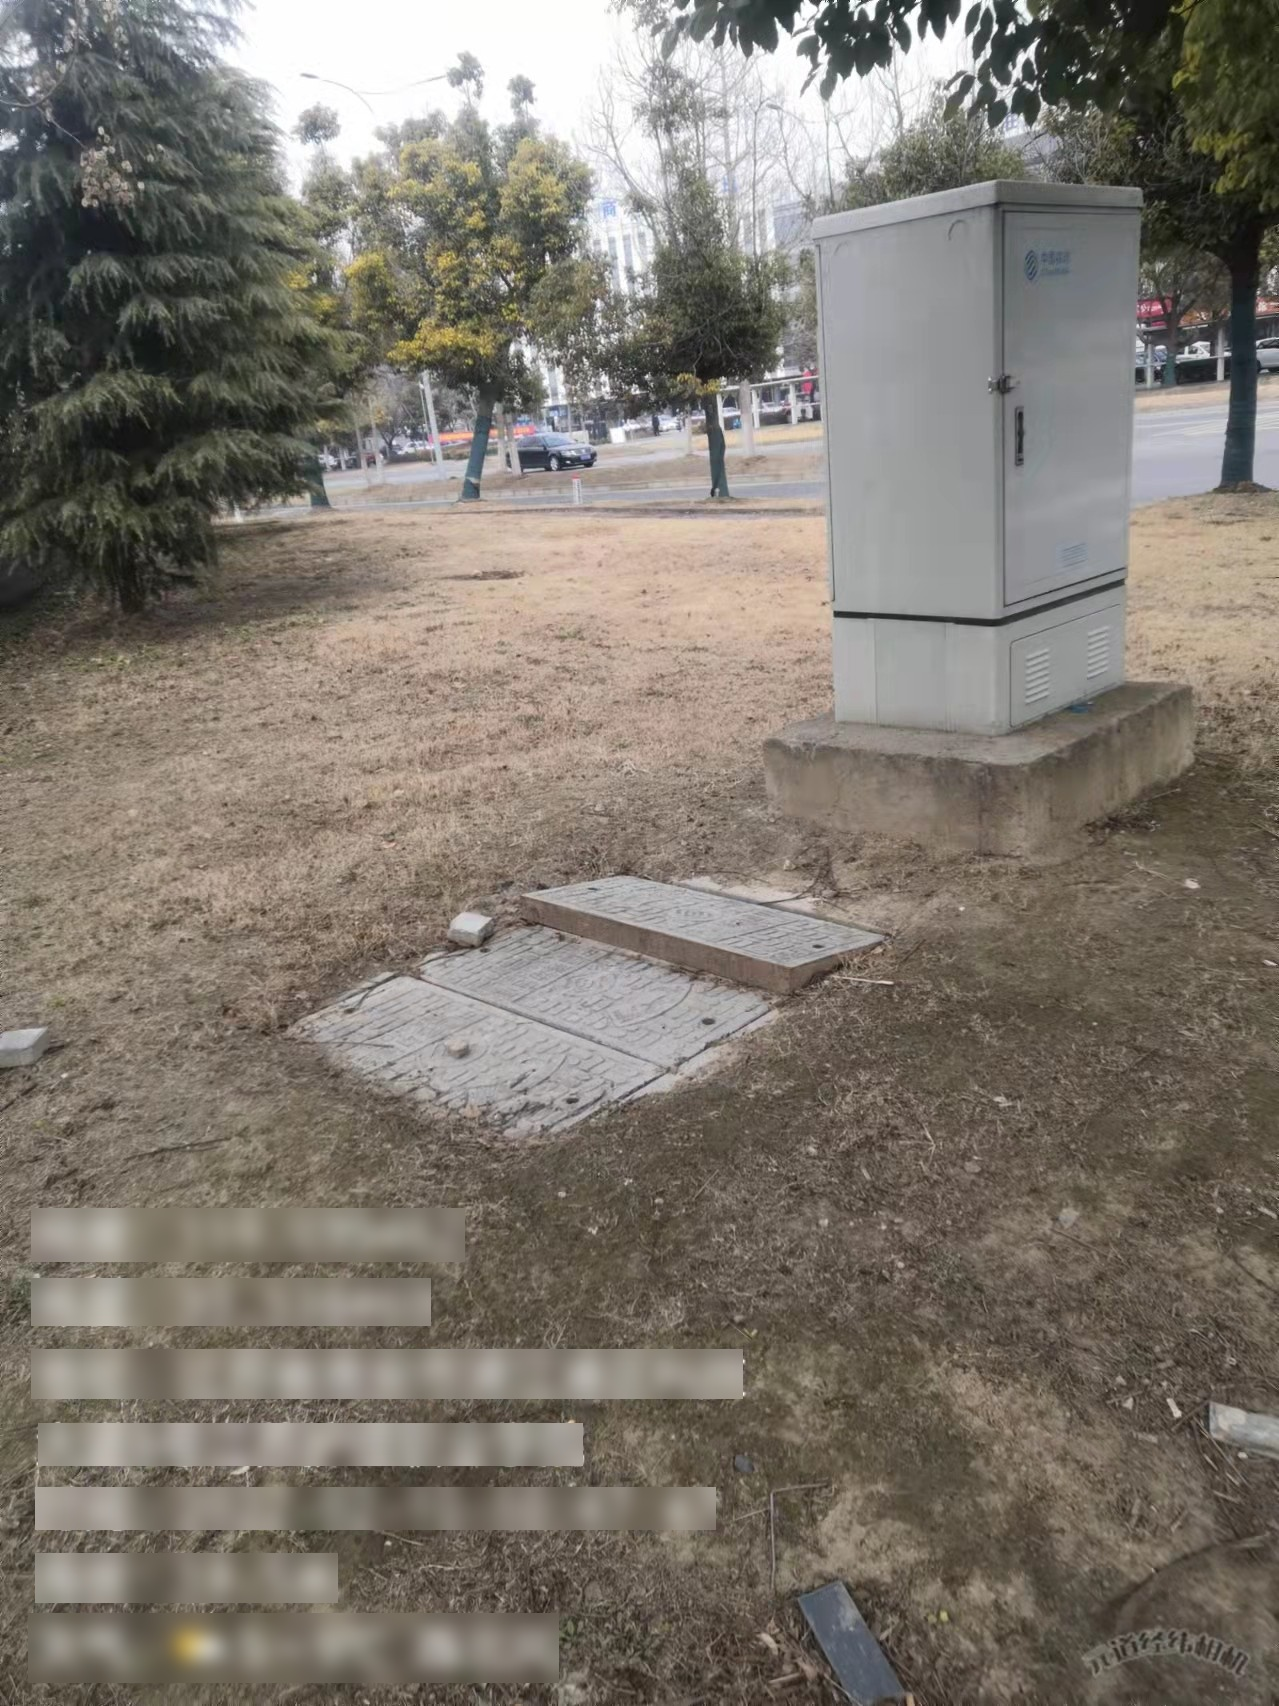uncovered: (273, 868, 888, 1161)
